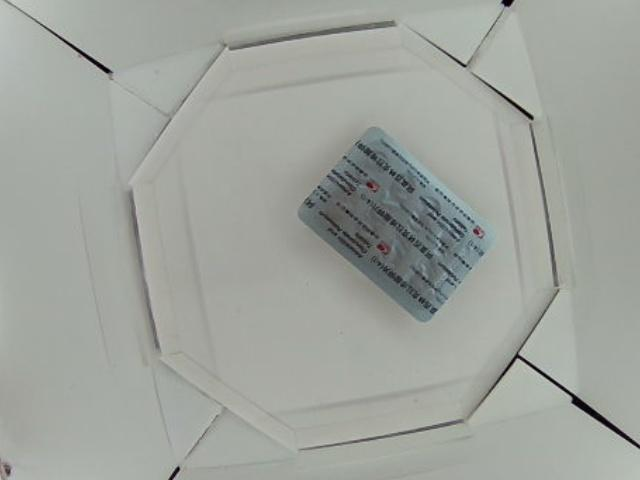Medicine: (297, 120, 494, 325)
